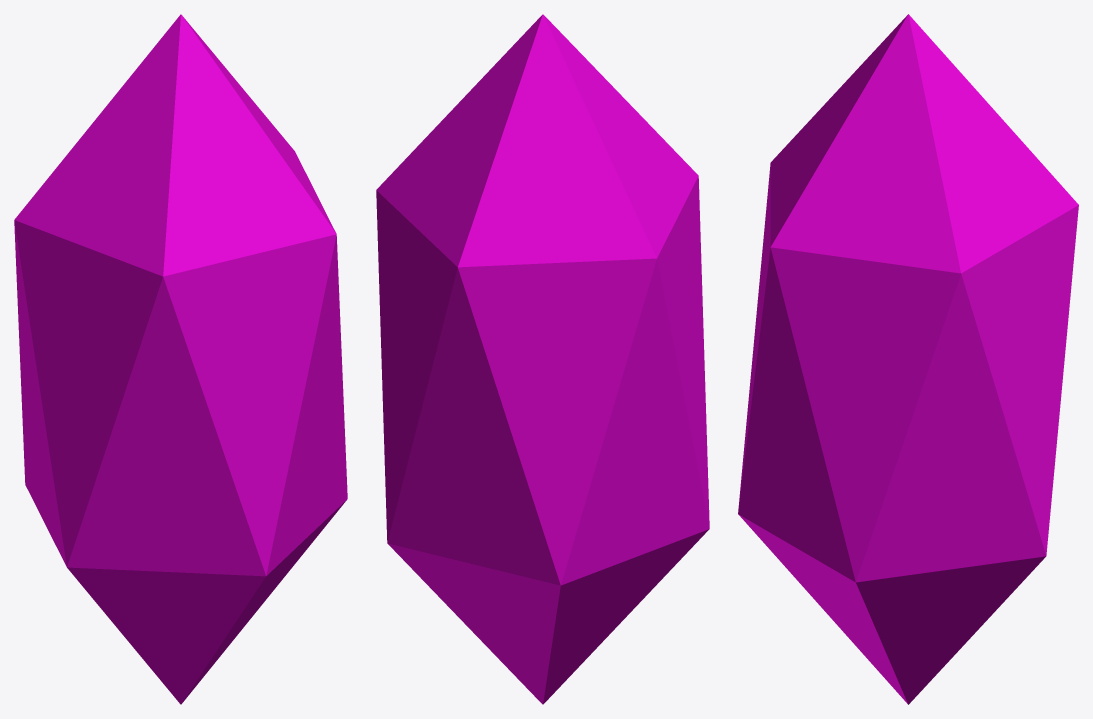
The model's file is Player.gltf.
3 views of the same model, side by side, from view 1: azimuth 30°, elevation 25°; view 2: azimuth 150°, elevation 25°; view 3: azimuth 270°, elevation 25° (orthographic).
Parts seen in each view (by area): view 1: PlayerEntity; view 2: PlayerEntity; view 3: PlayerEntity.
Boxes of the visible parts, left/top/right/bottom form: PlayerEntity: left=14, top=14, right=347, bottom=704; PlayerEntity: left=376, top=14, right=709, bottom=704; PlayerEntity: left=738, top=14, right=1078, bottom=704.
Bounding box in the file's own units: 0.8506 × 2 × 0.8944.
